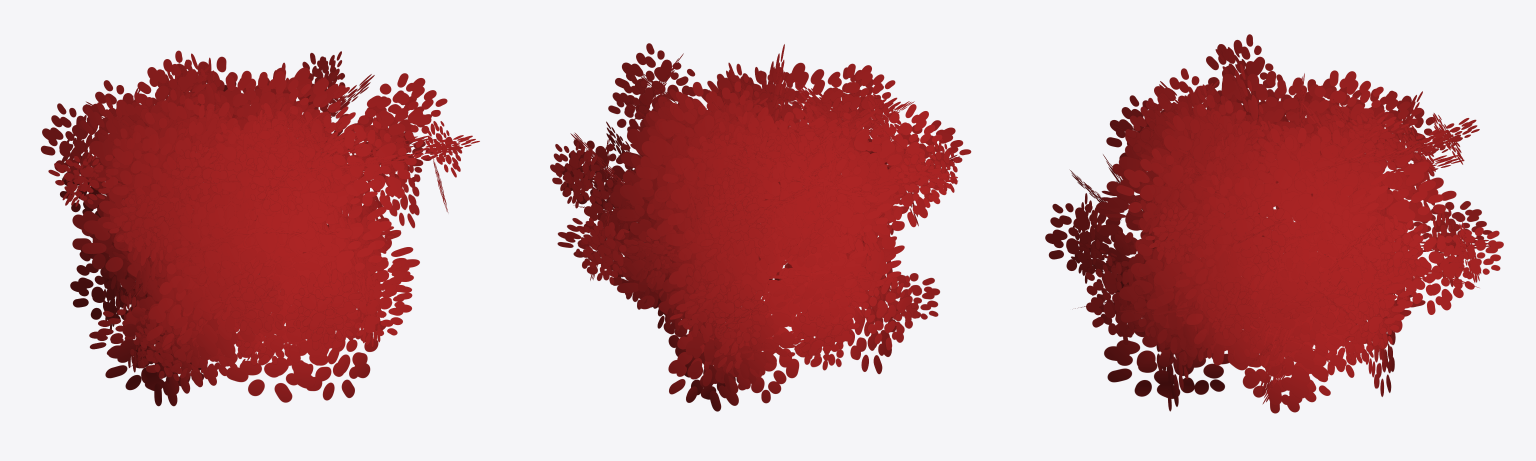
File: Bush_red.glb
3 views of the same model, side by side, from view 1: azimuth 30°, elevation 25°; view 2: azimuth 150°, elevation 25°; view 3: azimuth 270°, elevation 25° (orthographic). The views are drawn at different scales.
Parts seen in each view (by area): view 1: Bush_Common; view 2: Bush_Common; view 3: Bush_Common.
Boxes of the visible parts, left/top/right/bottom form: Bush_Common: left=41, top=50, right=479, bottom=406; Bush_Common: left=550, top=43, right=971, bottom=411; Bush_Common: left=1045, top=34, right=1503, bottom=413.
Bounding box in the file's own units: 1.91 × 1.58 × 1.97.
1 material, 1 textured.
